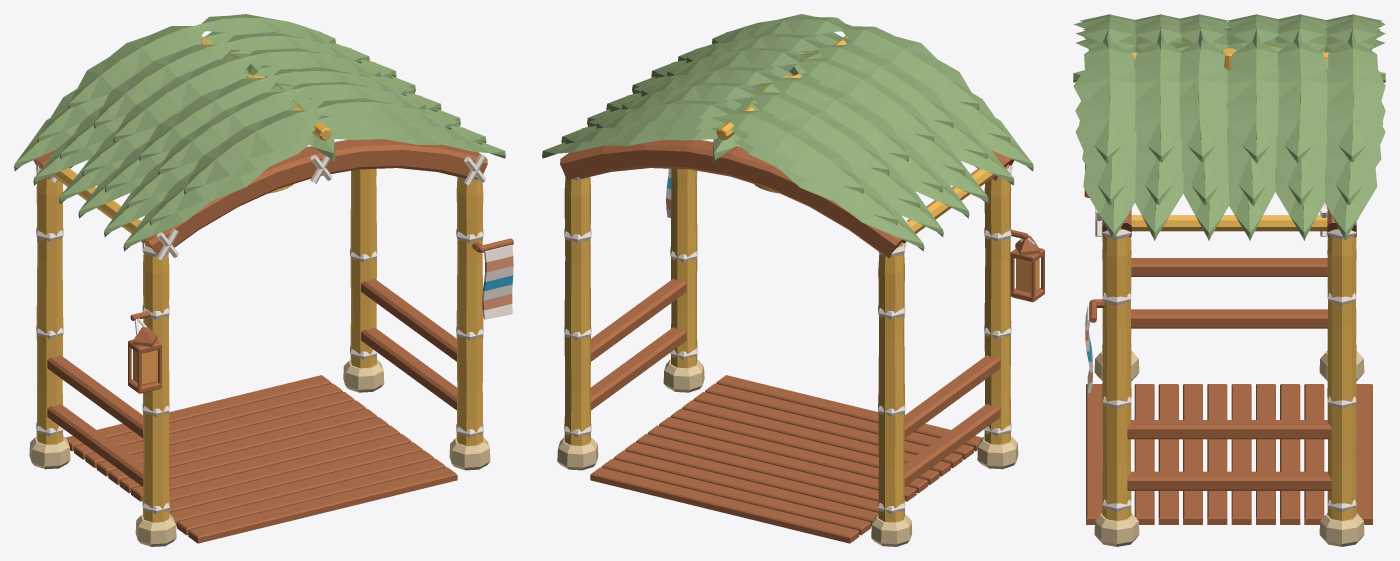
The model's file is beachShower.glb.
3 renders of one model, left to right at view 1: azimuth 30°, elevation 25°; view 2: azimuth 150°, elevation 25°; view 3: azimuth 270°, elevation 25°, orthographic. The views are drawn at different scales.
Parts seen in each view (by area): view 1: beachShower; view 2: beachShower; view 3: beachShower.
Boxes of the visible parts, <box> form: beachShower: <box>14,14,513,546</box>; beachShower: <box>542,14,1044,546</box>; beachShower: <box>1073,14,1385,546</box>.
Size of the model in its own units: 3.52 by 3.5 by 2.36.
Materials: 1 (1 with a texture image).
